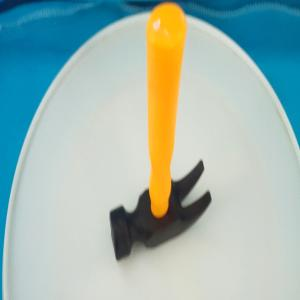martelo: (108, 0, 213, 262)
